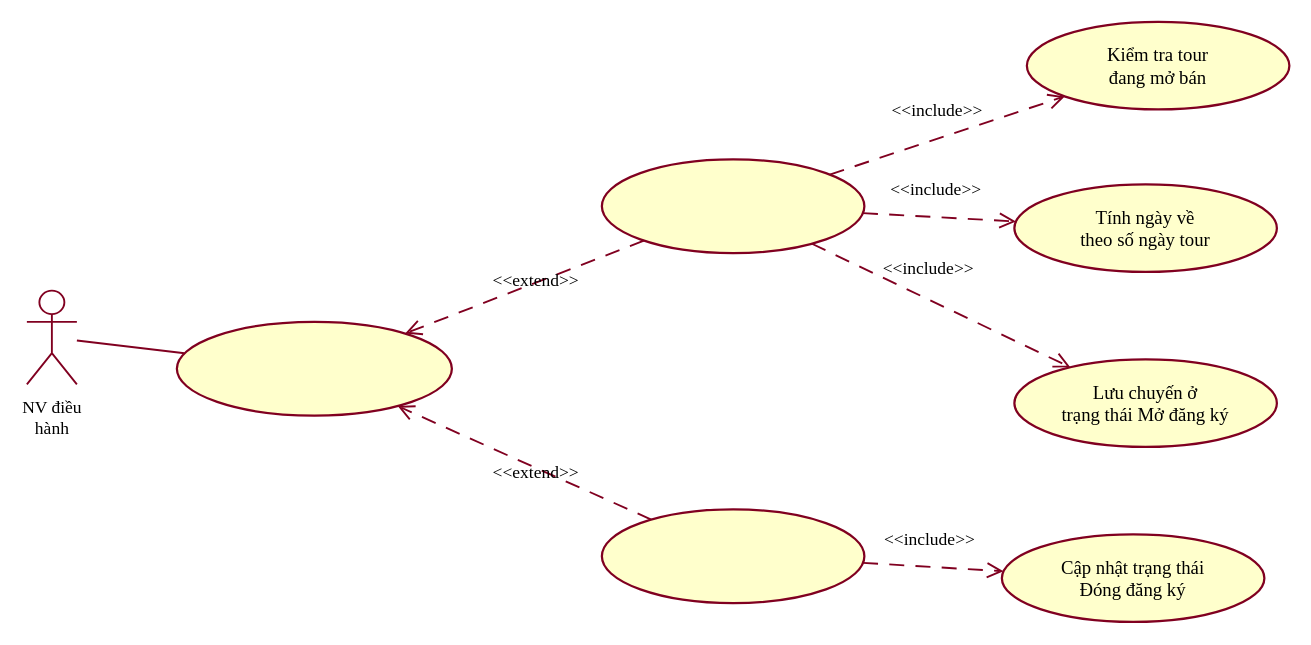
The diagram is 1311 pixels wide and 645 high, and some of its shapes have lost their labels. The shapes that lost their labels are listed below. From the top down, each one's centre as x and y in pixels, then its label:
At pixel 732 206: "Tạo chuyến khách lẻ".
At pixel 313 368: "Lập lịch chuyến khách lẻ".
At pixel 732 556: "Đóng đăng ký chuyến khách lẻ".
